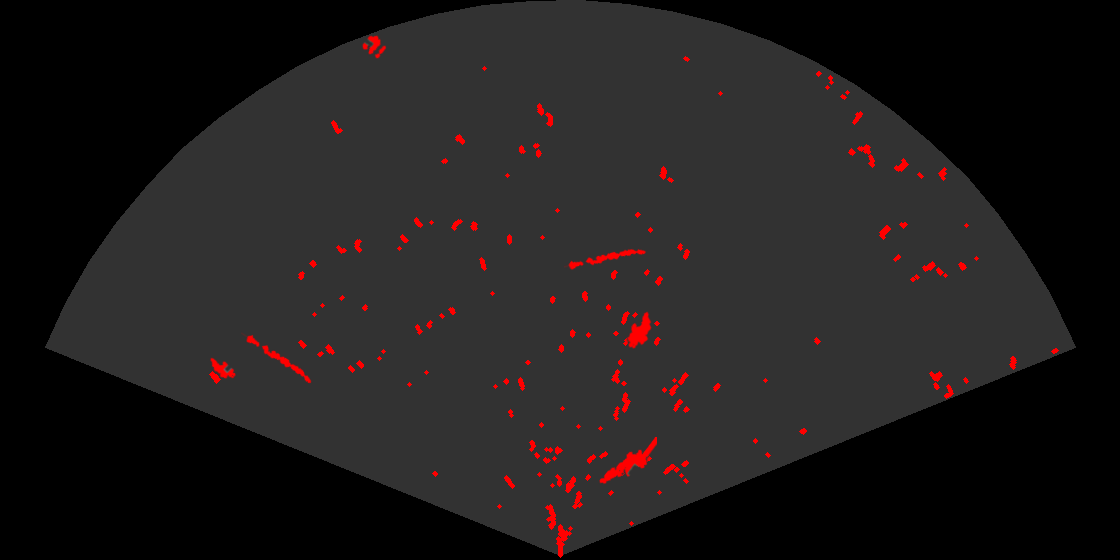AUV: (626, 310, 653, 350), (209, 356, 237, 380)
ball: (361, 34, 388, 60)
chain: (241, 331, 313, 385), (564, 247, 648, 271)
frogman: (598, 437, 657, 486)
